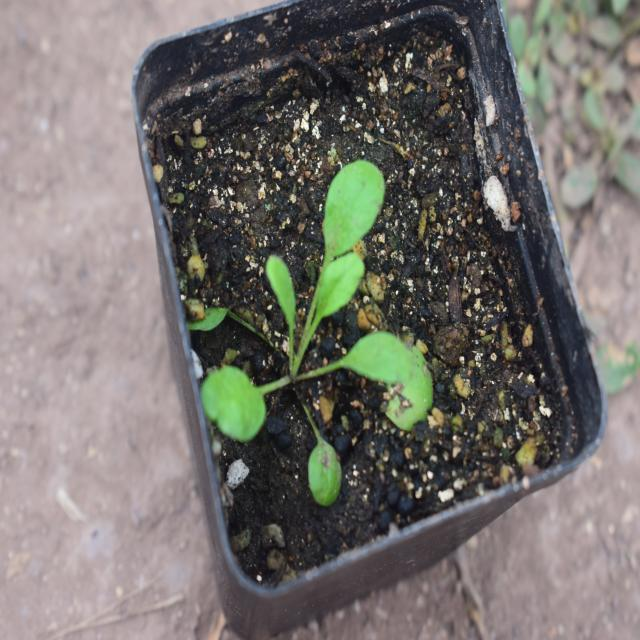Shepherd_Purse: (202, 146, 427, 476)
